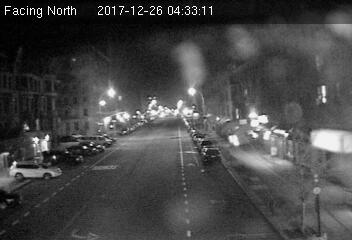car: (200, 147, 223, 165)
